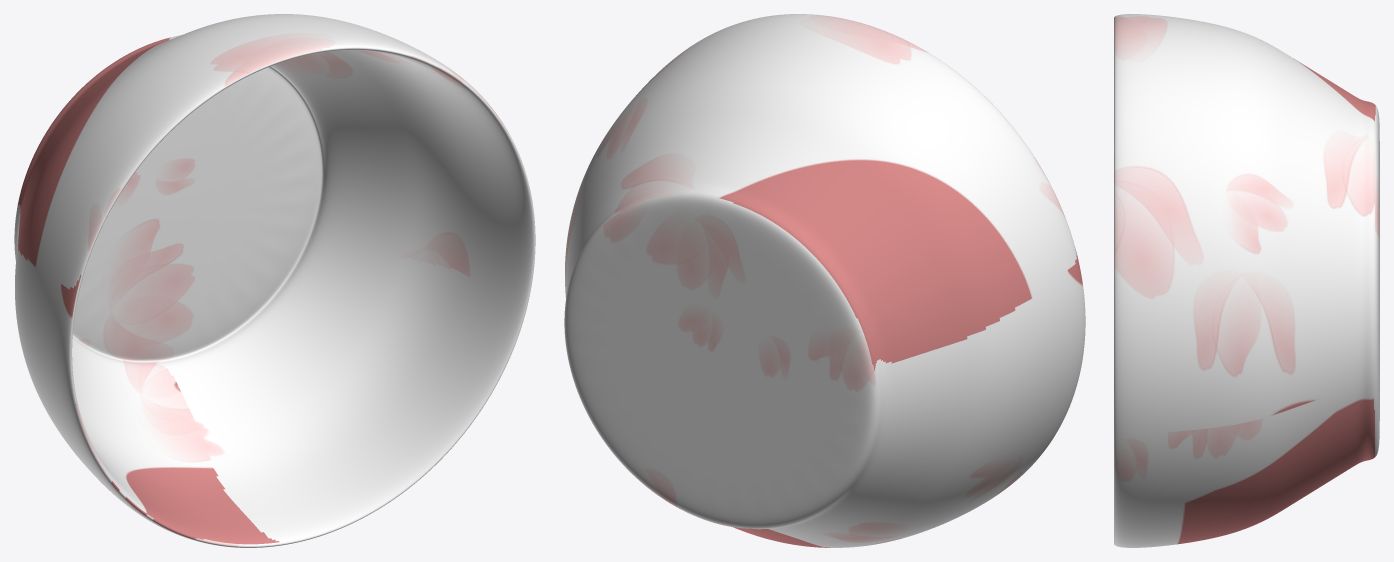
3 renders of one model, left to right at view 1: azimuth 30°, elevation 25°; view 2: azimuth 150°, elevation 25°; view 3: azimuth 270°, elevation 25°, orthographic.
Bounding box in the file's own units: 1 × 1 × 0.4976.
